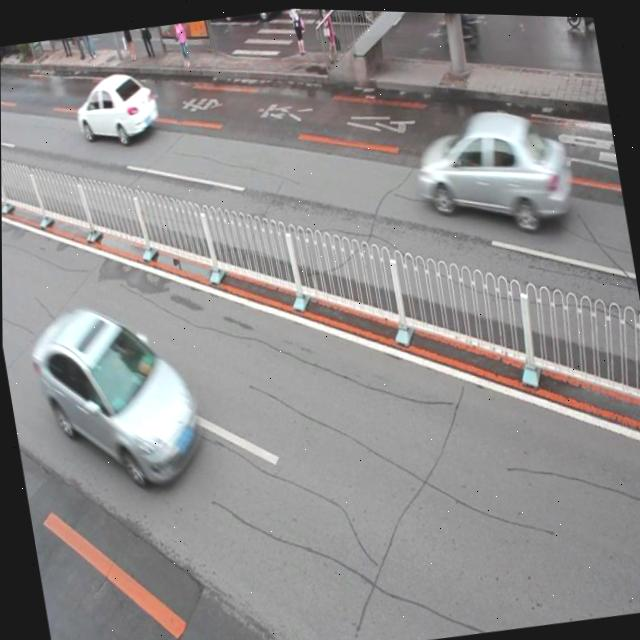car: (26, 293, 206, 500), (412, 96, 575, 239), (70, 64, 164, 152)
